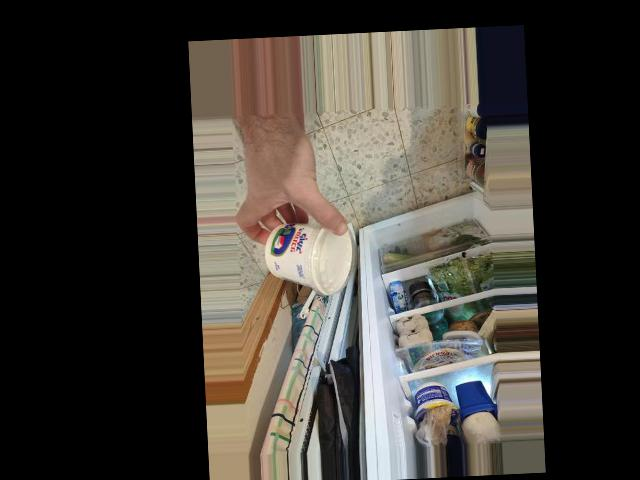cotage: (262, 213, 352, 293)
